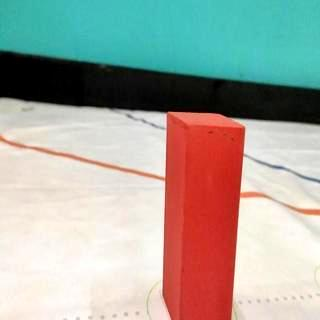redbox: (162, 110, 246, 320)
